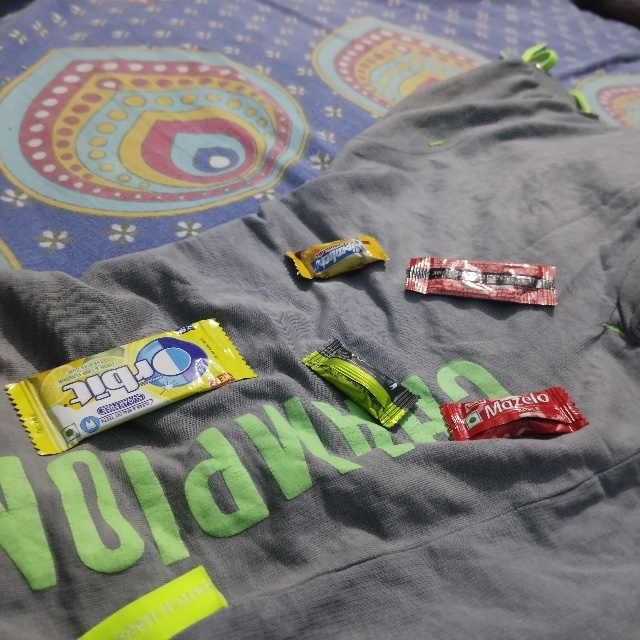Alpenlibe Creamfills: (283, 256, 385, 301)
Mazelo: (440, 394, 578, 460)
Nescafe Coffee: (406, 250, 563, 310)
Orbit: (0, 384, 232, 477)
Pulse: (305, 367, 355, 478)
